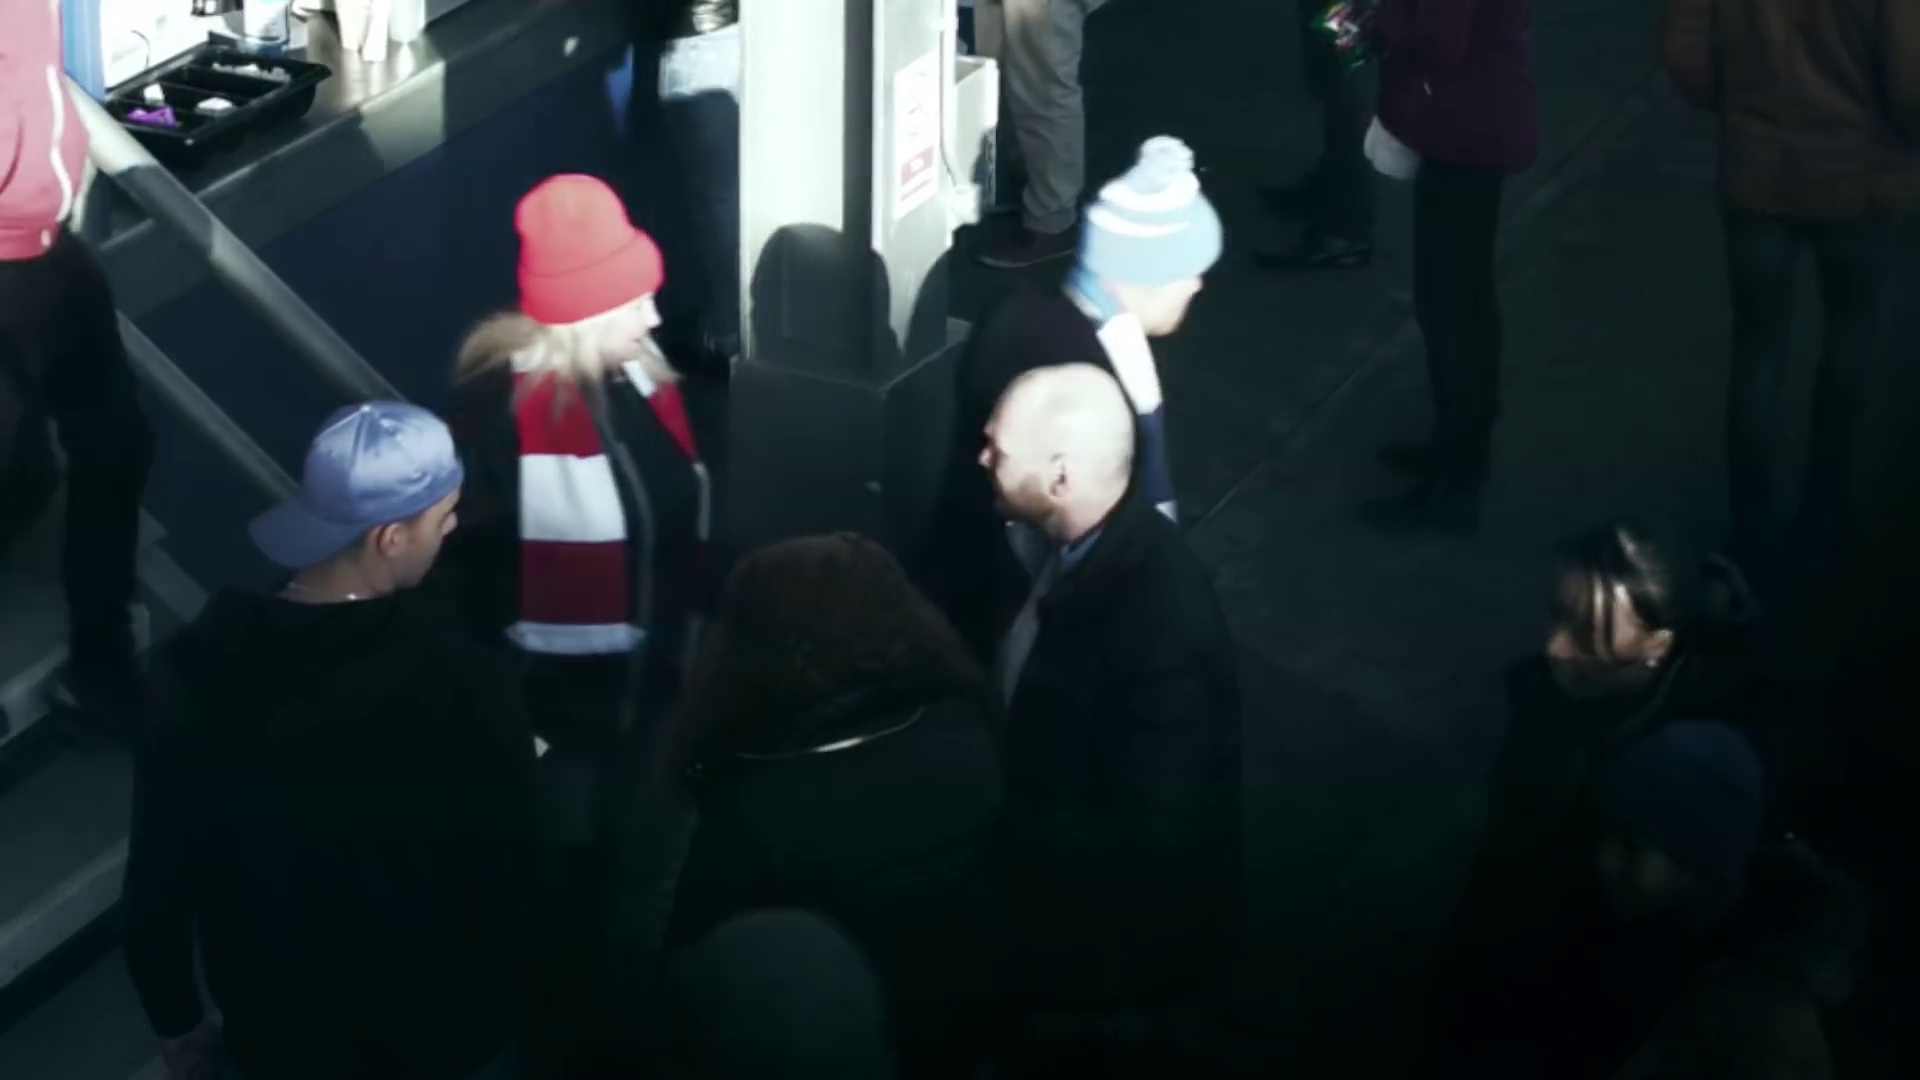face: (962, 414, 1046, 518), (1540, 597, 1628, 688)
